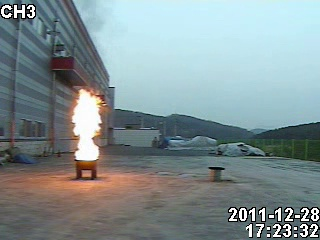fire: (68, 86, 101, 167)
